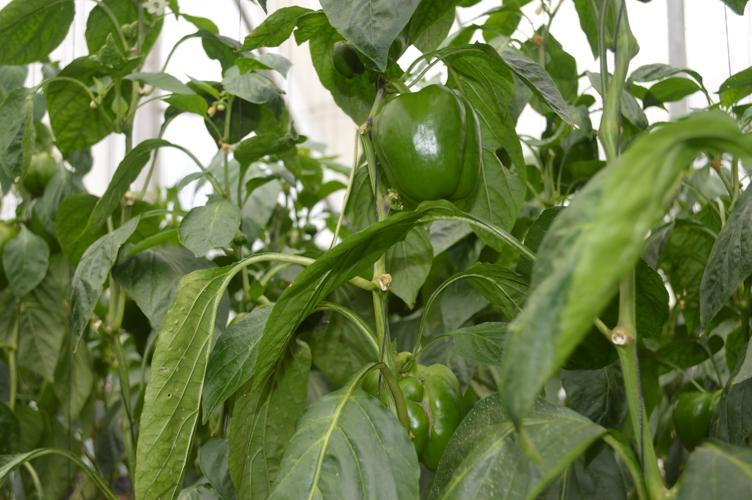BellPepper: (367, 82, 485, 201), (363, 362, 456, 466)
